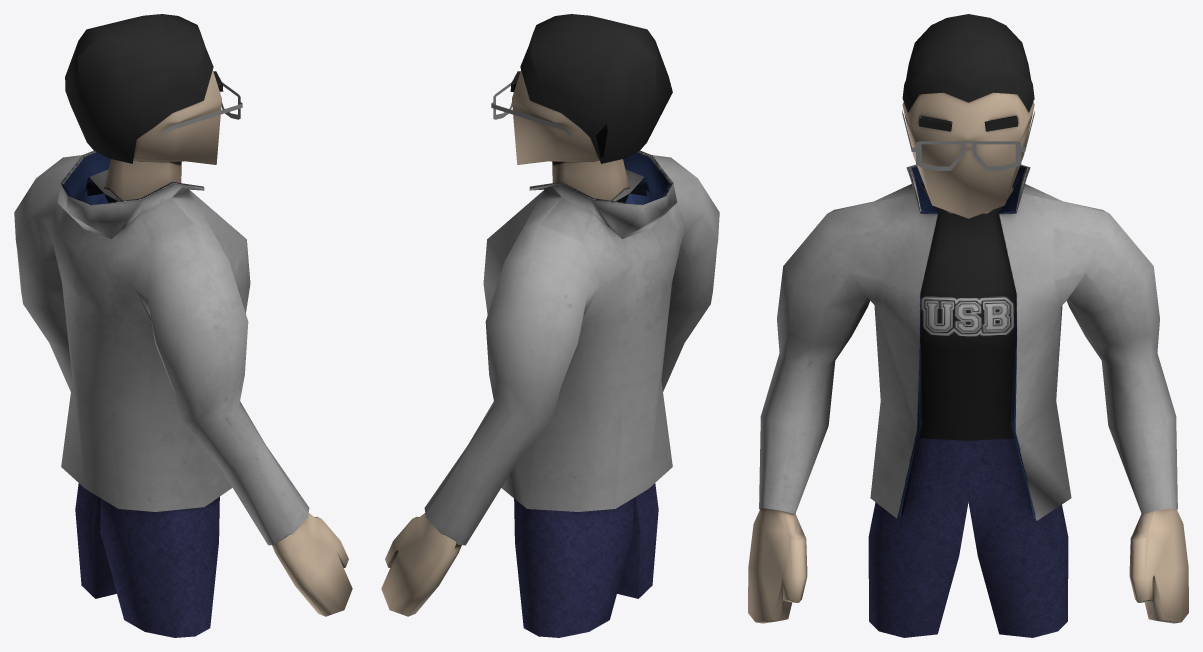
The model's file is memo3D.glb.
The picture shows the model from 3 angles, left to right: view 1: azimuth 30°, elevation 25°; view 2: azimuth 150°, elevation 25°; view 3: azimuth 270°, elevation 25°; orthographic projection.
Visible parts, largest first — view 1: chaqueta, pants, pelo, cuerpo, cabeza, gafas; view 2: chaqueta, pants, pelo, cuerpo, cabeza, gafas; view 3: chaqueta, pants, camiseta, cuerpo, cabeza, pelo, gafas, cejas.
Part boxes in pixels (box(x1,y1,x2,y2)): chaqueta: box(14, 150, 309, 545); pants: box(75, 483, 219, 637); pelo: box(65, 14, 213, 163); cuerpo: box(104, 159, 352, 616); cabeza: box(133, 70, 221, 164); gafas: box(162, 82, 242, 135); chaqueta: box(424, 150, 719, 545); pants: box(514, 483, 658, 637); pelo: box(520, 14, 672, 163); cuerpo: box(381, 159, 629, 616); cabeza: box(512, 70, 599, 164); gafas: box(491, 82, 571, 135); chaqueta: box(759, 164, 1177, 520); pants: box(868, 438, 1068, 637); camiseta: box(919, 206, 1016, 440); cuerpo: box(748, 187, 1188, 623); cabeza: box(902, 92, 1034, 218); pelo: box(902, 14, 1034, 112); gafas: box(902, 110, 1034, 170); cejas: box(919, 116, 1017, 131).
Bounding box in the file's own units: 1.27 × 3.59 × 2.43.
Materials: 1 (1 with a texture image).
